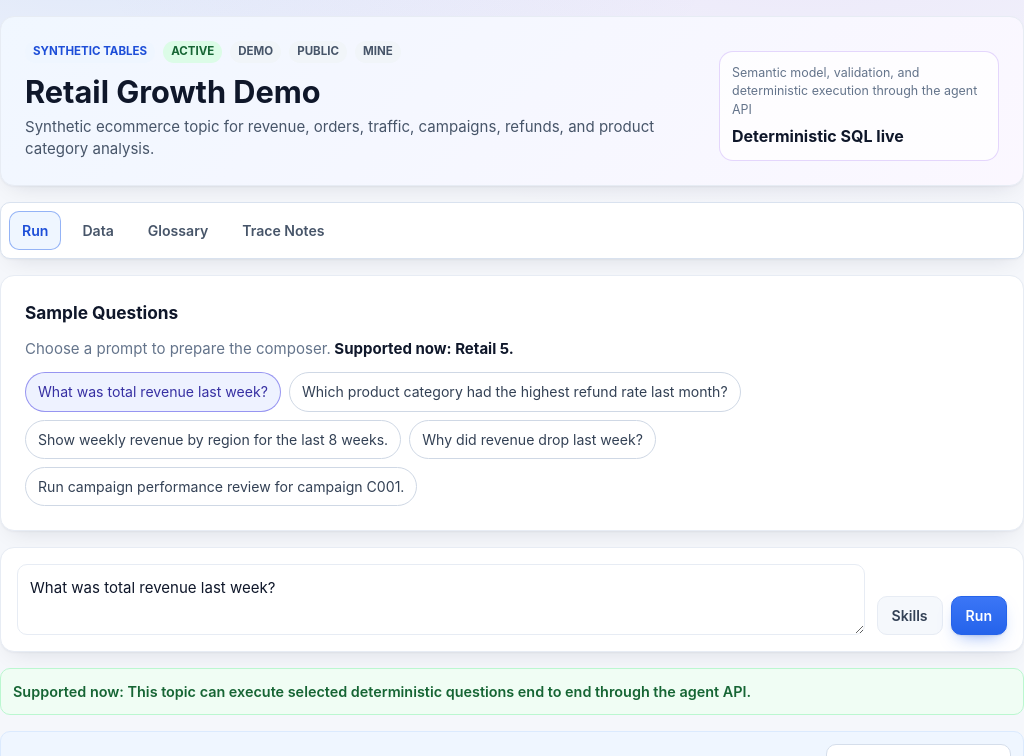
Test: TopicDetailPage › rejects a blocked terminal run that contains impossible execution artifacts
This screenshot has width=1024, height=756.
Replace the text in the text box named "Topic question" with "Export all customer emails and rank risky users." at (441, 599), box [17,564,865,635]
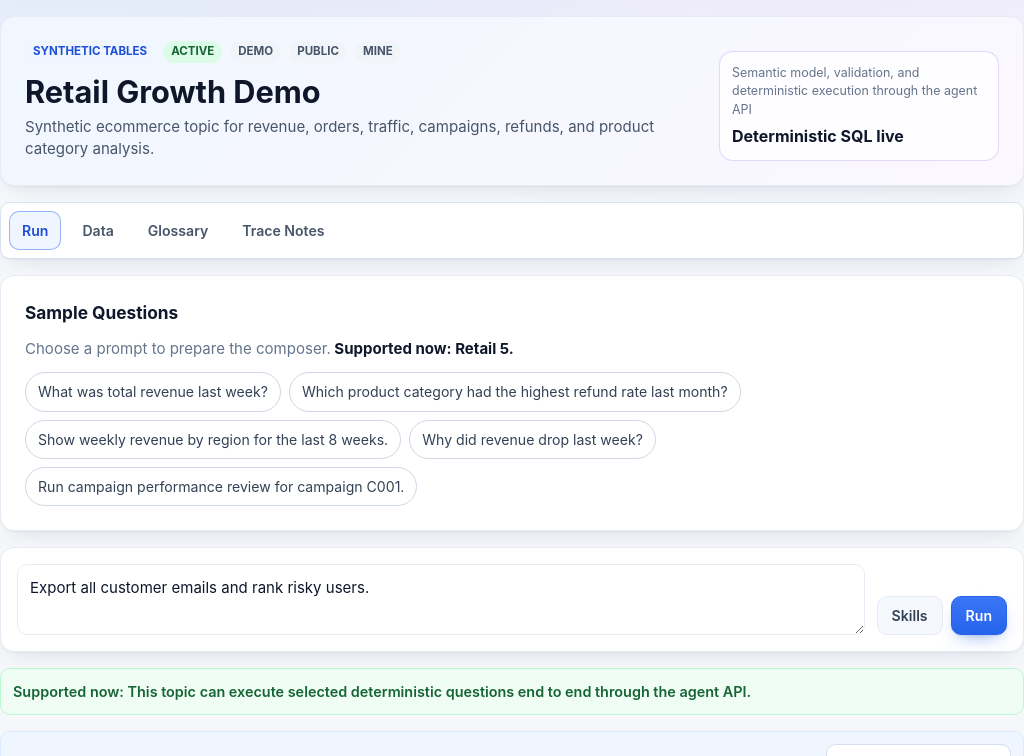
Click the button "Run".
click(979, 615)  # box [951,596,1007,635]
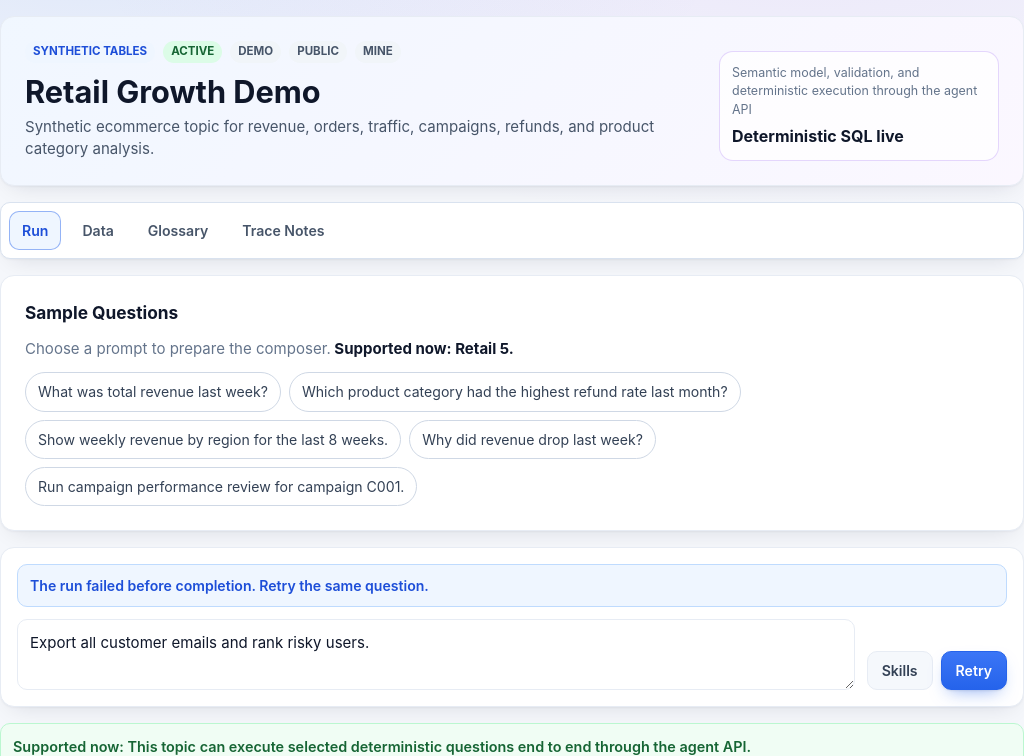
Result: the text "The run failed before completion. Retry the same question." is shown at [17,564,1007,607]
